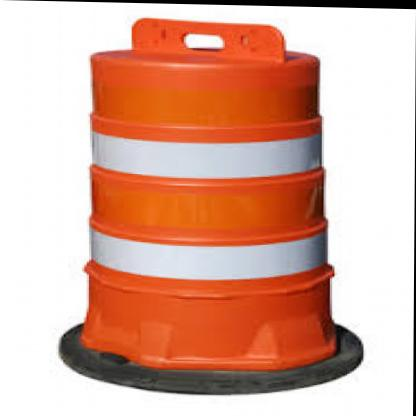obstacle: (53, 26, 359, 377)
